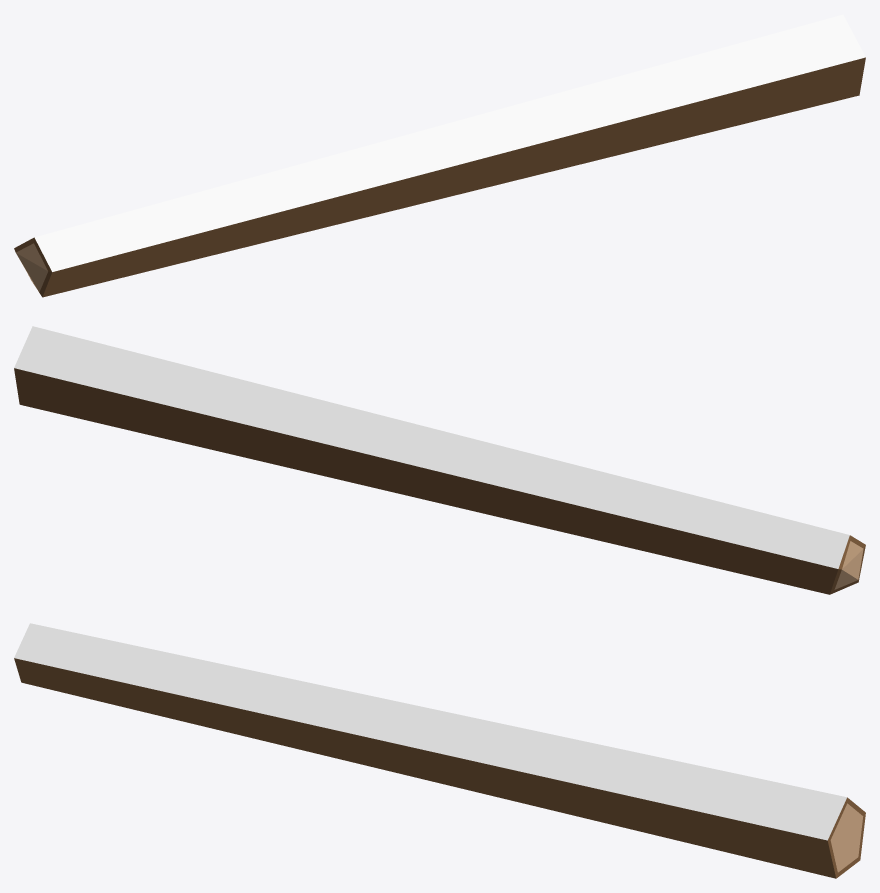
The model's file is Pine_Log_Snow_03_LOD.fbx.
3 renders of one model, top to bottom at view 1: azimuth 30°, elevation 25°; view 2: azimuth 150°, elevation 25°; view 3: azimuth 330°, elevation 25°, orthographic.
Visible parts, largest first — view 1: Pine_Log_Snow_03_LOD0; view 2: Pine_Log_Snow_03_LOD0; view 3: Pine_Log_Snow_03_LOD0.
Part boxes in pixels (<box>): Pine_Log_Snow_03_LOD0: <box>14,14,865,297</box>; Pine_Log_Snow_03_LOD0: <box>14,326,865,594</box>; Pine_Log_Snow_03_LOD0: <box>14,623,865,878</box>.
Size of what is drawn, in the model's own units: 712 by 59.08 by 65.36.
